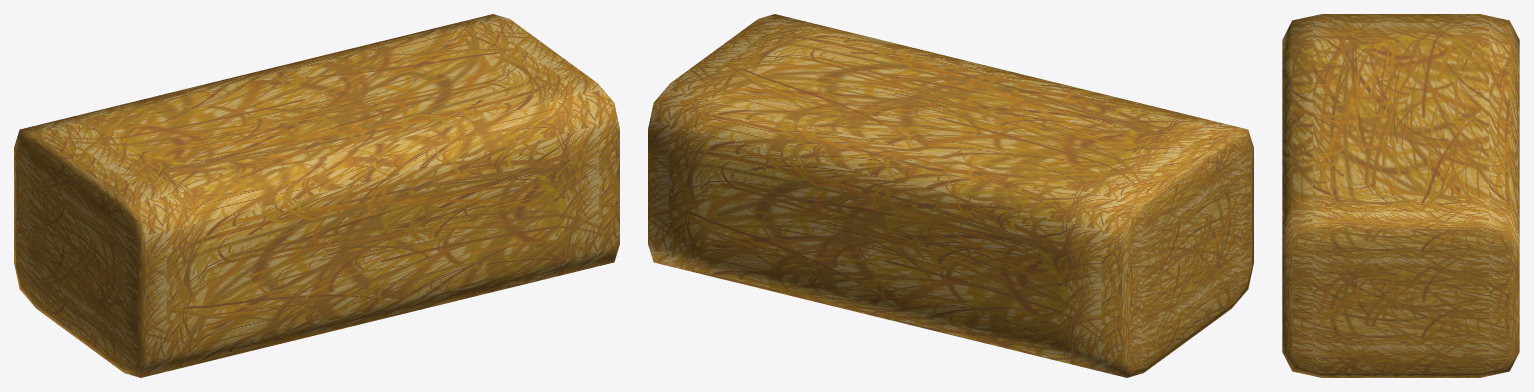
The model's file is Hay.FBX.
3 renders of one model, left to right at view 1: azimuth 30°, elevation 25°; view 2: azimuth 150°, elevation 25°; view 3: azimuth 270°, elevation 25°, orthographic. The views are drawn at different scales.
Parts seen in each view (by area): view 1: Box001; view 2: Box001; view 3: Box001.
Part boxes in pixels (box(x1,y1,x2,y2)): Box001: box(14, 14, 619, 377); Box001: box(648, 14, 1253, 377); Box001: box(1282, 14, 1519, 377).
Size of the model in its own units: 64.27 by 22.16 by 30.47.
Materials: 1 (1 with a texture image).
